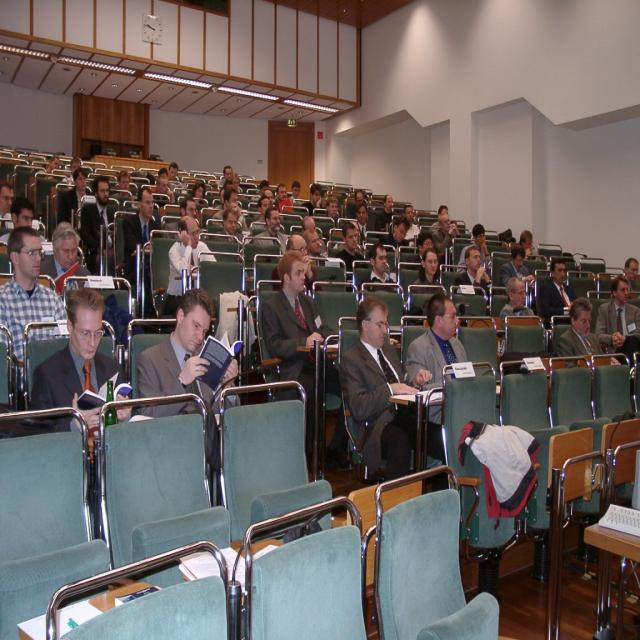body: (337, 294, 450, 492), (258, 246, 353, 476), (136, 286, 240, 475), (27, 286, 134, 467), (0, 224, 72, 400), (405, 292, 469, 426), (120, 186, 164, 320), (555, 295, 621, 369), (162, 214, 205, 320), (167, 215, 217, 297), (80, 174, 120, 276), (38, 220, 92, 290), (594, 275, 640, 353), (56, 166, 92, 256), (537, 255, 579, 331), (271, 232, 323, 292), (453, 244, 493, 307), (0, 194, 47, 246), (334, 221, 366, 293), (499, 274, 535, 332), (429, 212, 462, 272), (210, 185, 250, 233), (358, 242, 398, 290), (498, 245, 536, 295), (456, 223, 492, 275), (253, 205, 289, 256), (409, 247, 447, 293), (148, 160, 179, 209), (377, 212, 412, 254), (610, 255, 640, 300), (403, 229, 435, 271), (502, 228, 537, 266), (211, 208, 245, 242), (44, 156, 82, 183), (373, 193, 398, 234), (298, 182, 326, 218), (250, 178, 286, 206), (354, 206, 376, 247), (0, 181, 17, 232), (428, 204, 453, 238), (216, 164, 242, 196), (112, 170, 134, 202), (402, 204, 421, 241), (250, 195, 270, 230), (288, 179, 306, 207), (188, 178, 208, 202), (326, 195, 340, 222), (350, 190, 364, 212), (301, 215, 316, 235), (212, 195, 227, 213)
